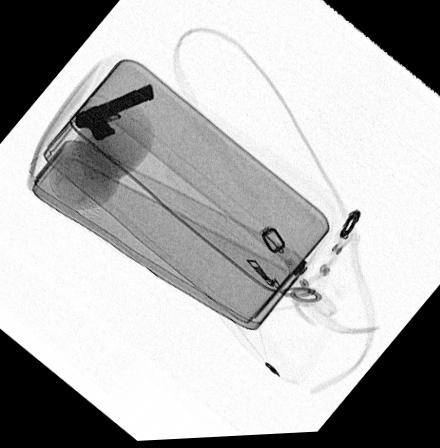Gun: (73, 82, 152, 140)
